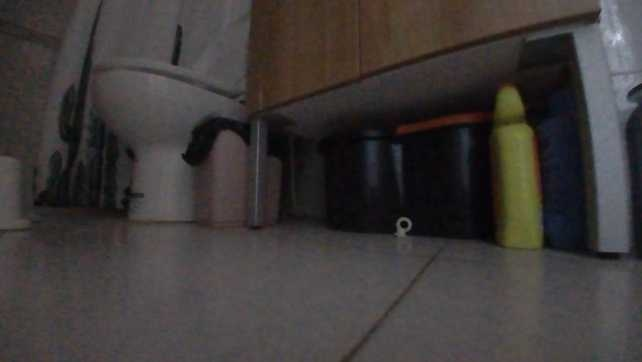toilet: (86, 12, 248, 222)
trash_can: (185, 103, 283, 227)
